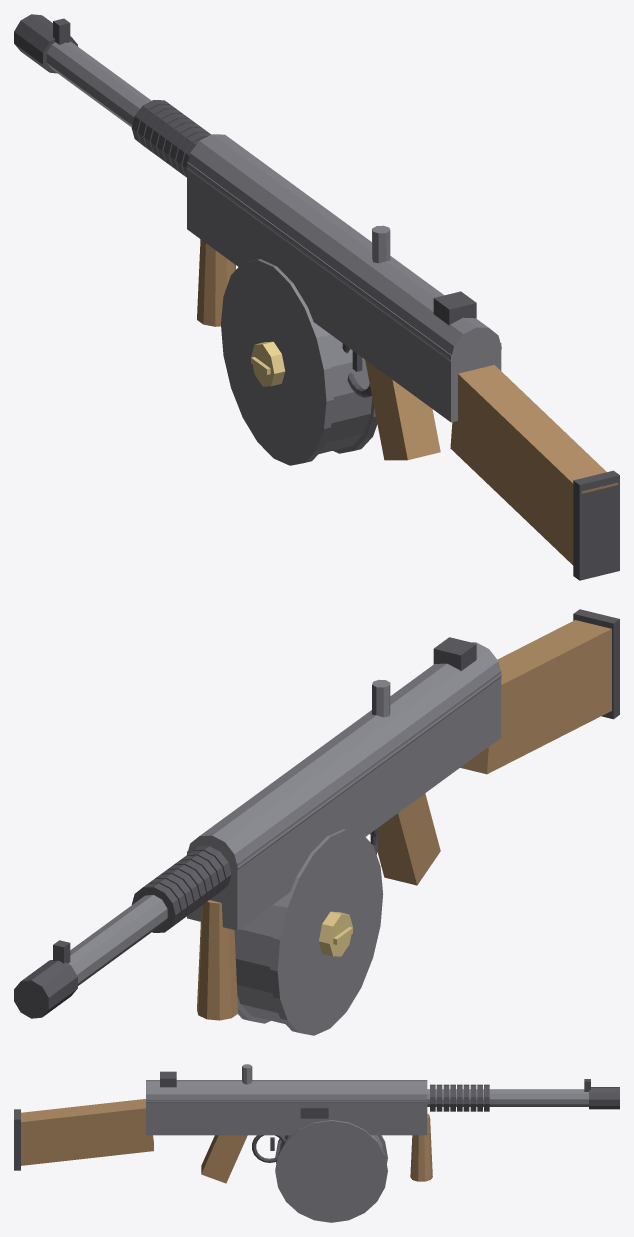
The model's file is tommy_gun.glb.
3 views of the same model, one above another, from view 1: azimuth 30°, elevation 25°; view 2: azimuth 150°, elevation 25°; view 3: azimuth 270°, elevation 25° (orthographic). The views are drawn at different scales.
Parts seen in each view (by area): view 1: Body, Drum; view 2: Body, Drum; view 3: Body, Drum.
Part boxes in pixels (x1,y1,x2,y2): Body: (14, 14, 619, 580); Drum: (221, 259, 377, 465); Body: (14, 609, 619, 1020); Drum: (234, 829, 383, 1035); Body: (14, 1064, 619, 1183); Drum: (275, 1120, 387, 1222).
Bounding box in the file's own units: 0.079 × 0.2925 × 1.08.
